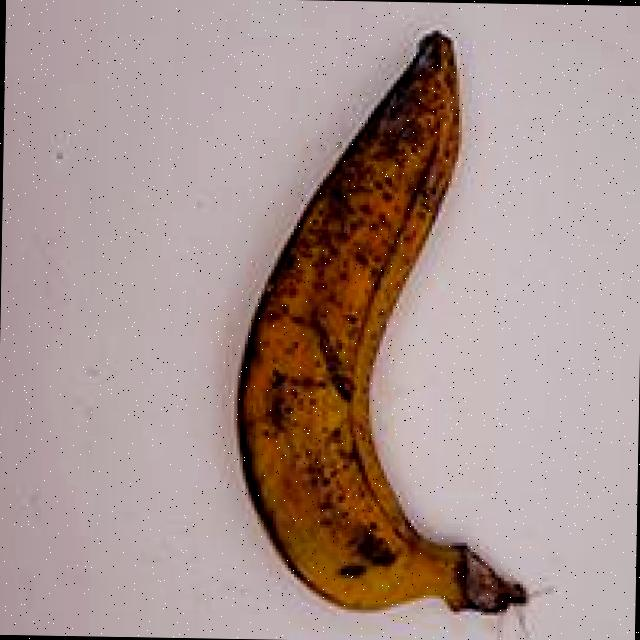Overripe: (206, 14, 575, 640)
